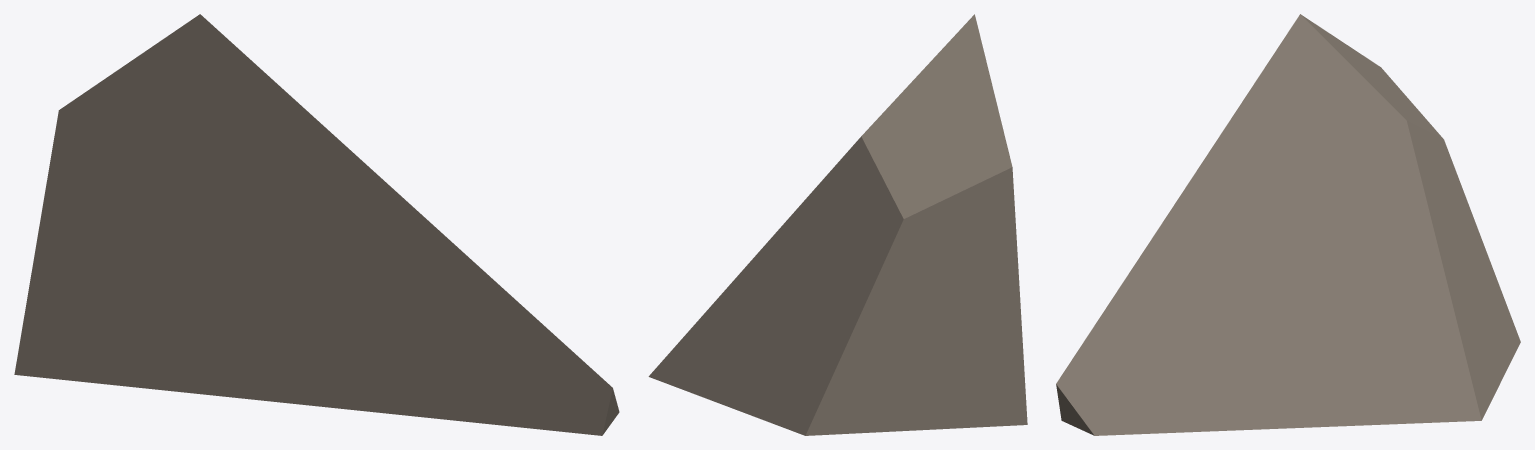
The model's file is Stone2.3.glb.
3 renders of one model, left to right at view 1: azimuth 30°, elevation 25°; view 2: azimuth 150°, elevation 25°; view 3: azimuth 270°, elevation 25°, orthographic. The views are drawn at different scales.
Parts seen in each view (by area): view 1: Stone2.3; view 2: Stone2.3; view 3: Stone2.3.
Boxes of the visible parts, left/top/right/bottom form: Stone2.3: left=14, top=14, right=619, bottom=435; Stone2.3: left=648, top=14, right=1027, bottom=435; Stone2.3: left=1056, top=14, right=1520, bottom=435.
Size of the model in its own units: 1.11 by 0.9687 by 1.32.
